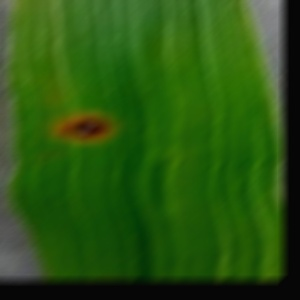Bacterial_Leaf_Blight: (48, 109, 116, 146), (40, 150, 59, 161)
